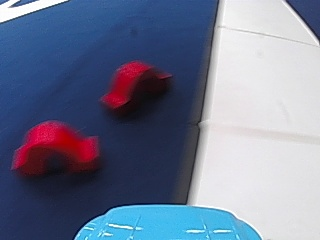bridge: (8, 115, 102, 179), (97, 56, 170, 120)
